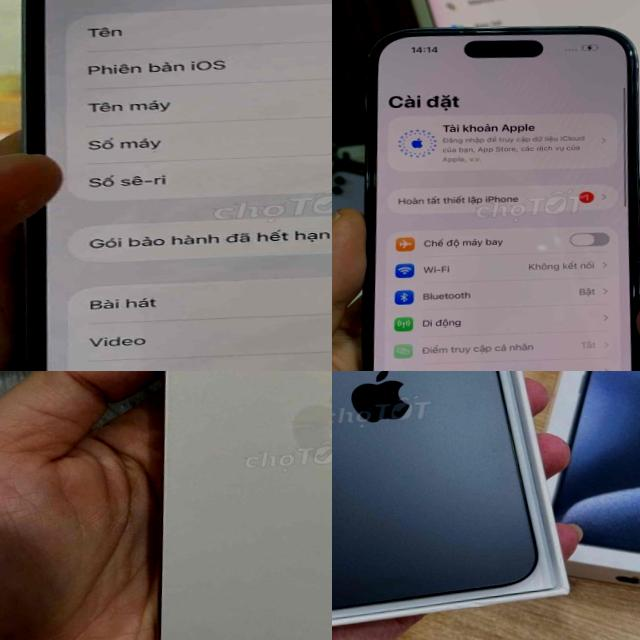gen_14: (339, 5, 640, 371)
gen_15: (0, 0, 332, 371), (332, 371, 556, 637)
gen_16: (160, 371, 332, 640)
